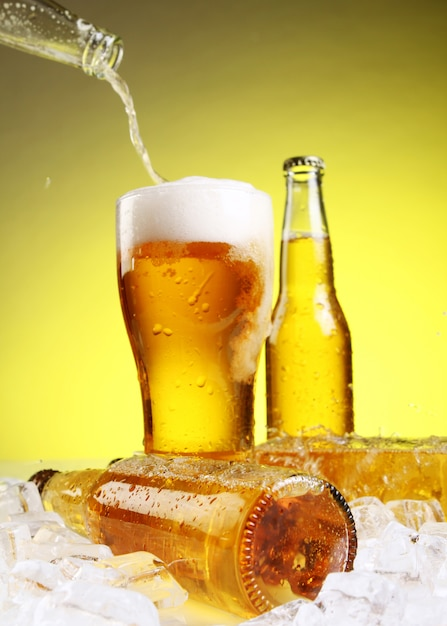alcohol: (15, 460, 363, 607), (109, 178, 278, 462), (261, 152, 361, 445), (102, 446, 447, 526), (0, 2, 129, 83)
